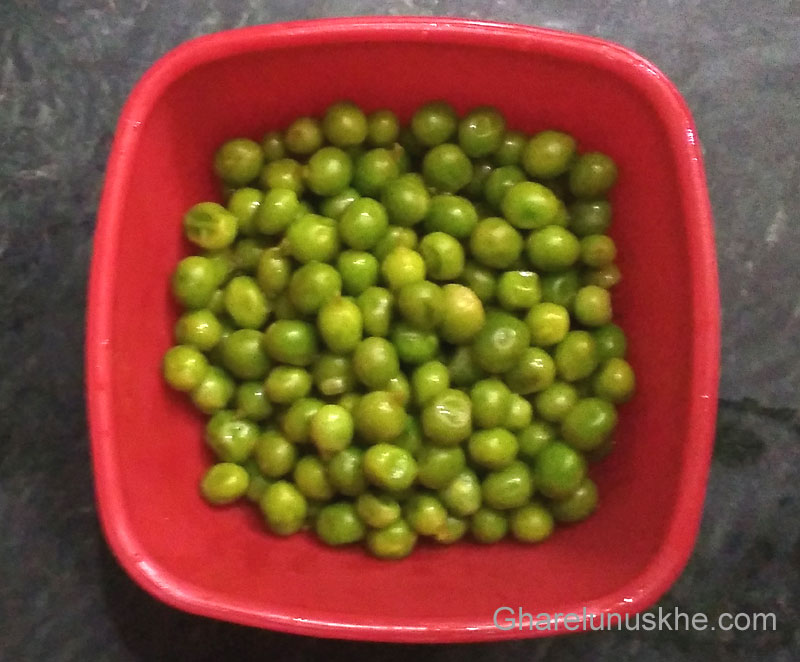boiled peas: (202, 142, 594, 530)
